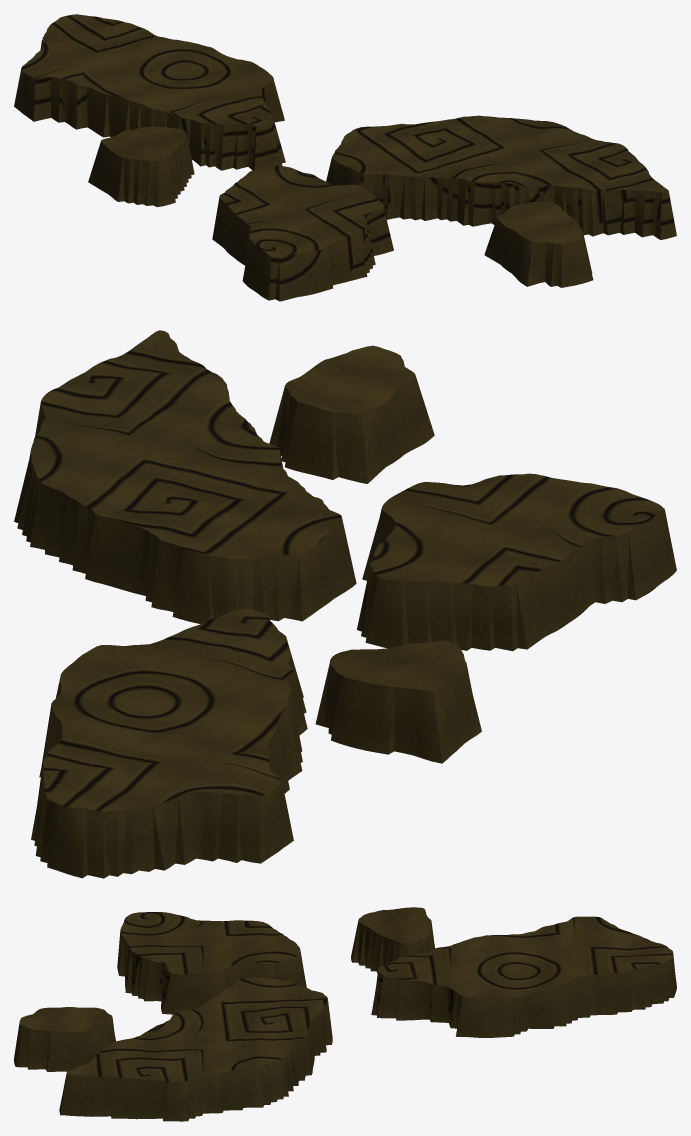
The model's file is CREHenge19.glb.
3 renders of one model, top to bottom at view 1: azimuth 30°, elevation 25°; view 2: azimuth 150°, elevation 25°; view 3: azimuth 270°, elevation 25°, orthographic. The views are drawn at different scales.
Visible parts, largest first — view 1: CREHenge19_tops; view 2: CREHenge19_tops; view 3: CREHenge19_tops.
Boxes of the visible parts, x1,y1,x2,y2 form: CREHenge19_tops: (14,14,676,301); CREHenge19_tops: (14,330,676,878); CREHenge19_tops: (14,907,676,1121).
Size of the model in its own units: 4.07 by 0.4372 by 6.38.
Materials: 2 (2 with a texture image).
